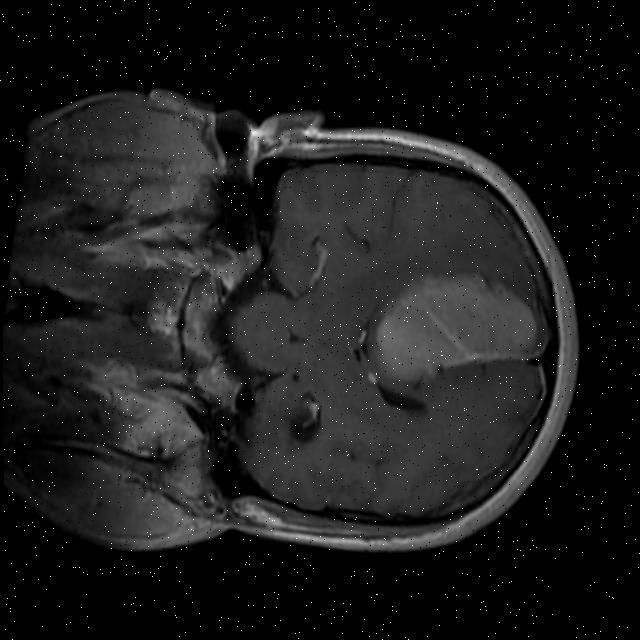Meningioma: (370, 254, 547, 400)
